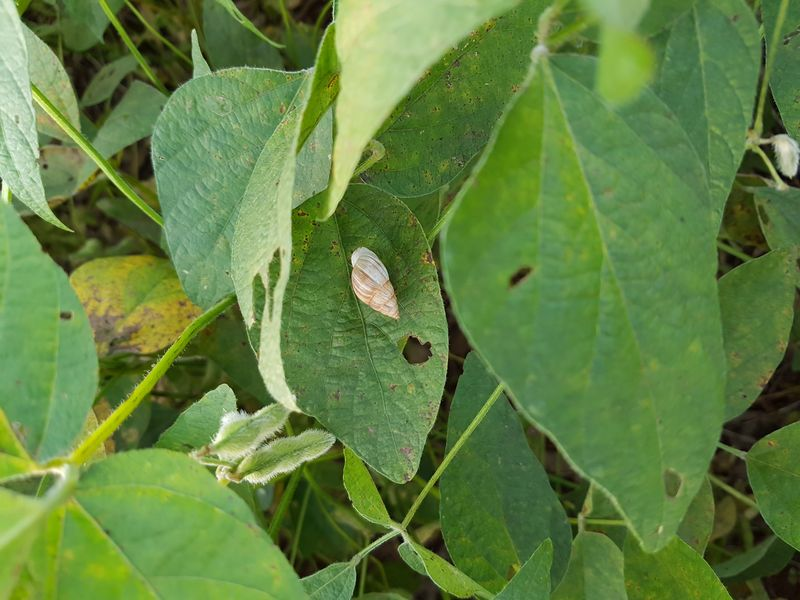Gastropoda: (334, 239, 419, 333)
